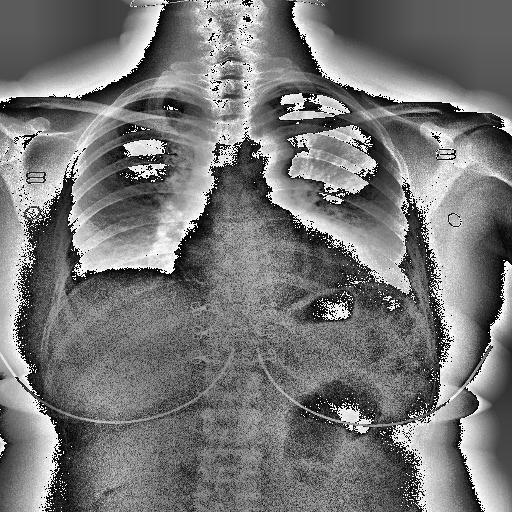0- Aortic enlargement: (244, 132, 296, 186), (238, 133, 295, 173), (256, 134, 294, 170)
11- Pleural thickening: (145, 85, 194, 96)
3- Cardiomegaly: (170, 230, 388, 296), (174, 232, 382, 285), (172, 243, 382, 290)
